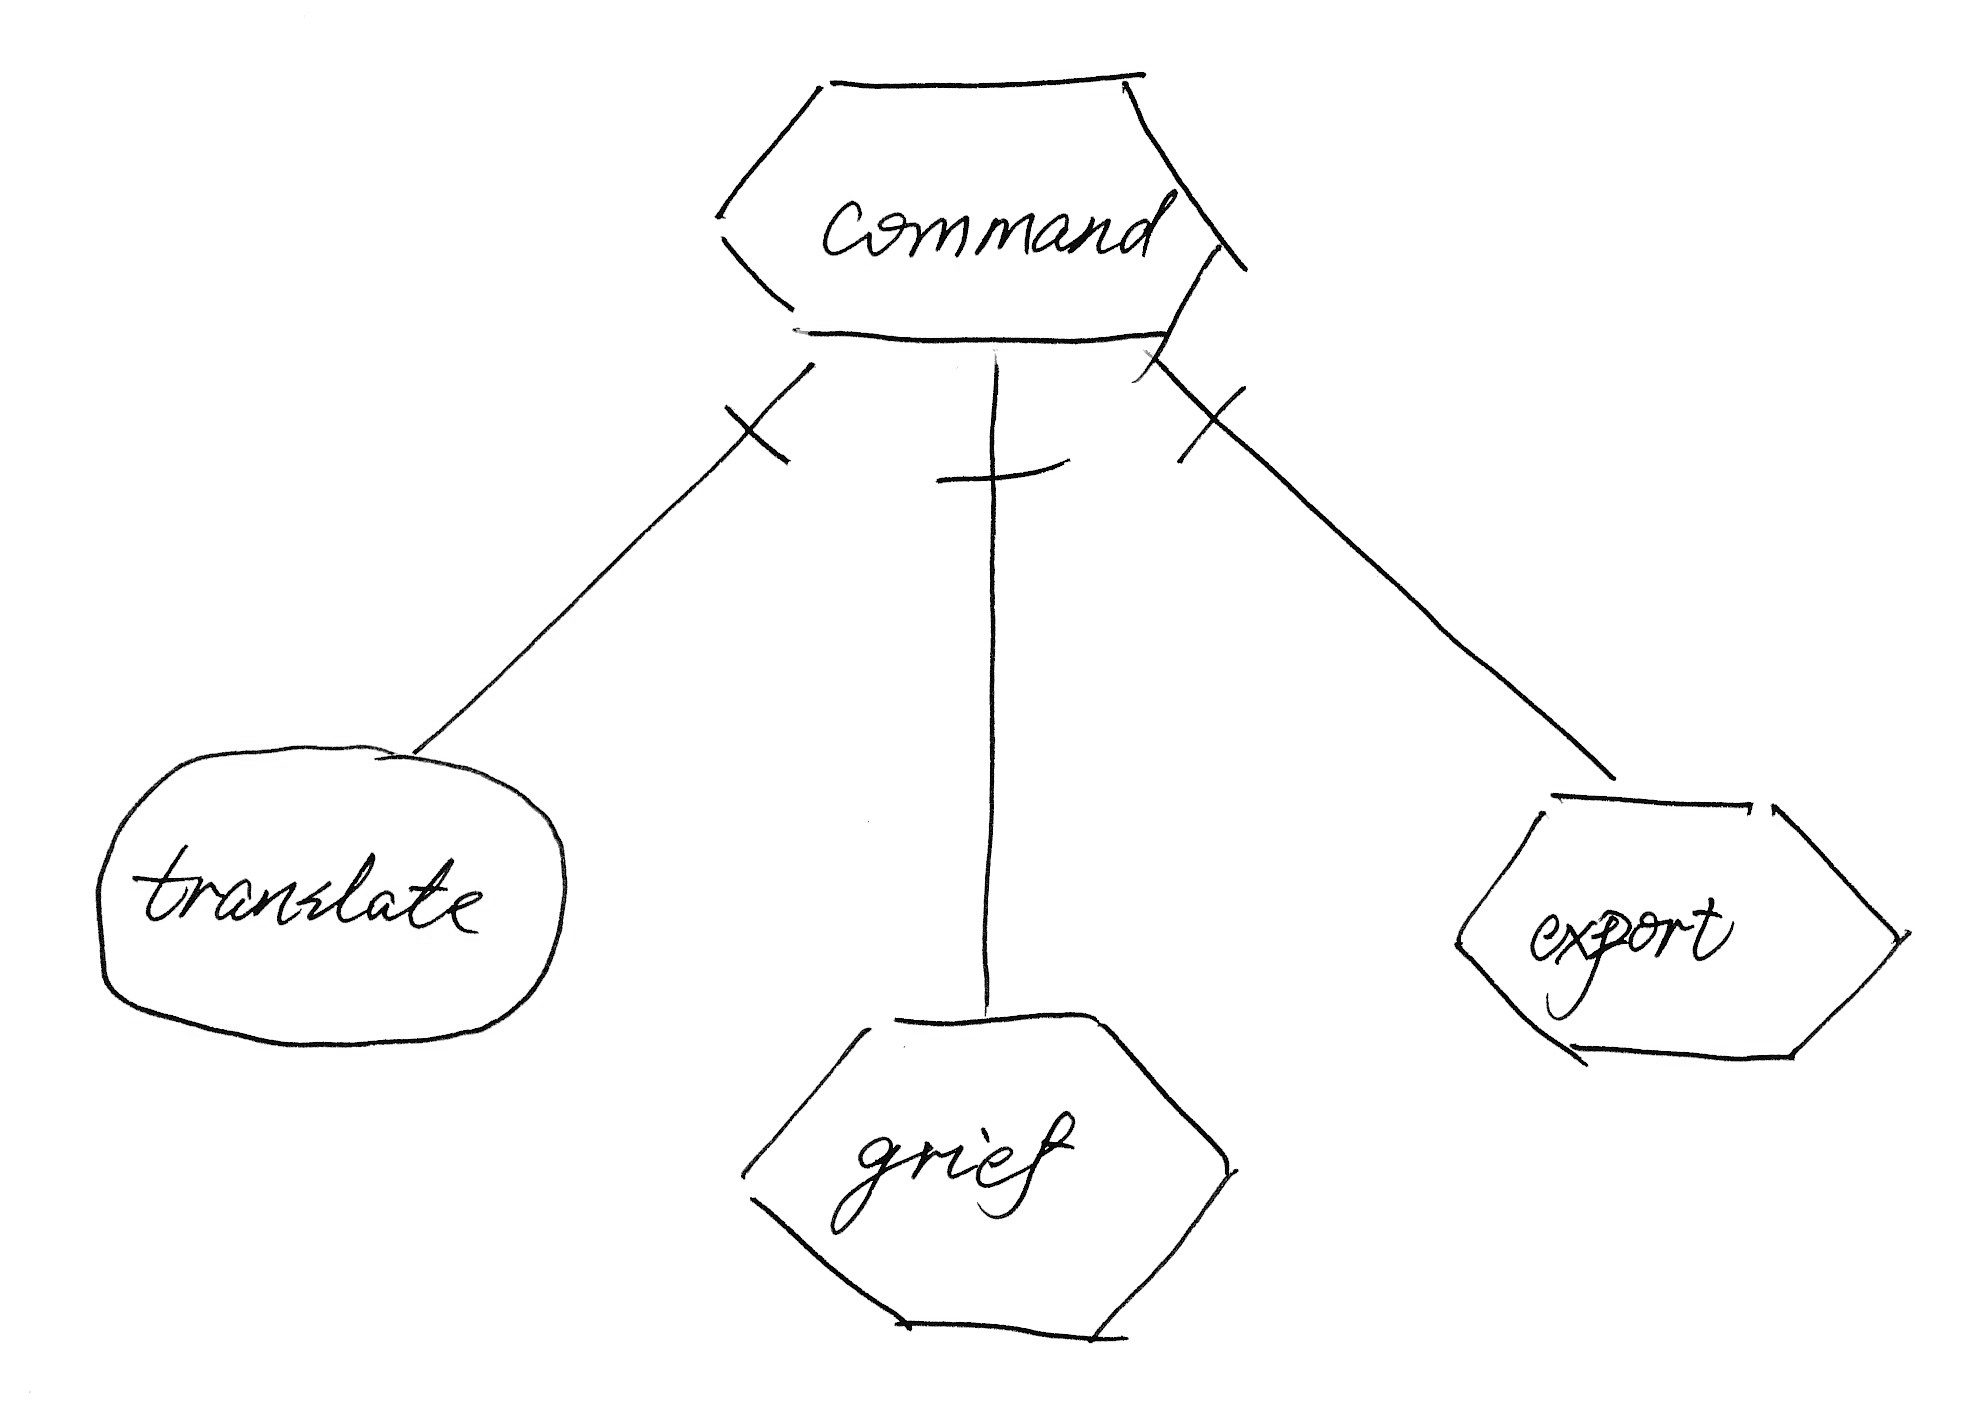and: (928, 393, 1091, 534), (704, 377, 817, 496), (1162, 380, 1259, 474)
goal: (75, 727, 578, 1066)
task: (710, 996, 1253, 1360), (698, 46, 1264, 384), (1440, 773, 1925, 1086)
